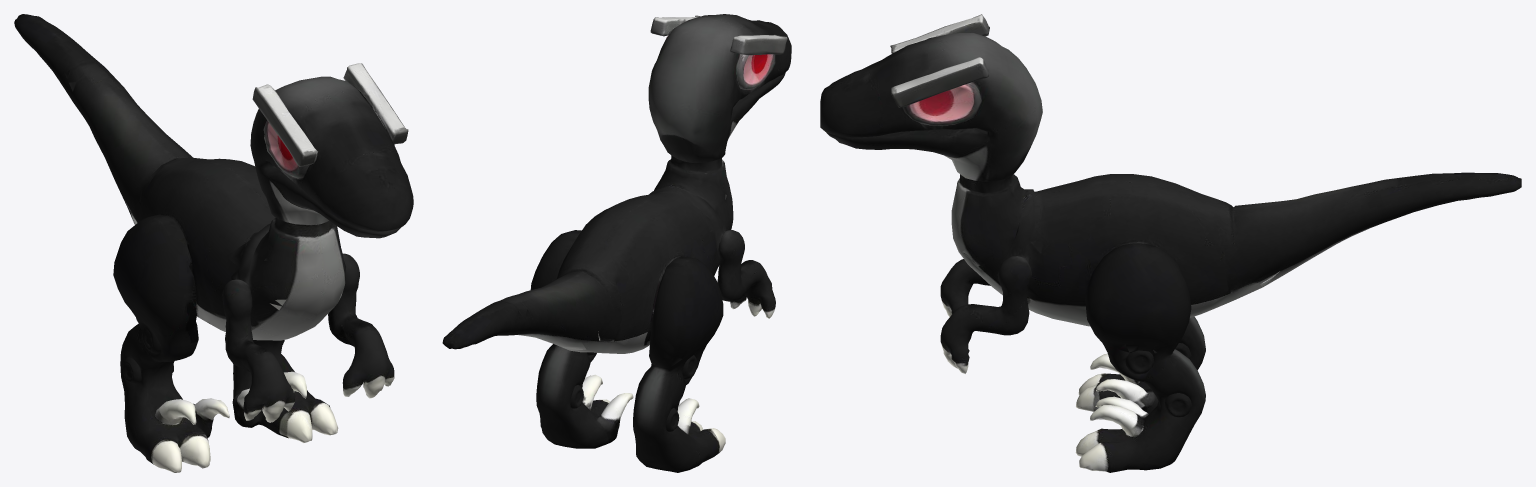
File: dino_raptor_plastic.glb
The picture shows the model from 3 angles, left to right: view 1: azimuth 30°, elevation 25°; view 2: azimuth 150°, elevation 25°; view 3: azimuth 270°, elevation 25°; orthographic projection. The views are drawn at different scales.
Parts seen in each view (by area): view 1: mesh_node; view 2: mesh_node; view 3: mesh_node.
Part boxes in pixels (x1,y1,x2,y2): mesh_node: (14, 14, 413, 472); mesh_node: (442, 14, 791, 472); mesh_node: (820, 14, 1521, 472).
Size of the model in its own units: 0.7822 by 1.62 by 2.61.
Materials: 1 (1 with a texture image).
